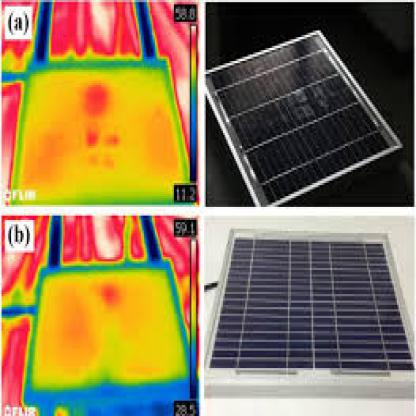Defects: (85, 80, 111, 116), (100, 283, 117, 309), (87, 126, 96, 144)
